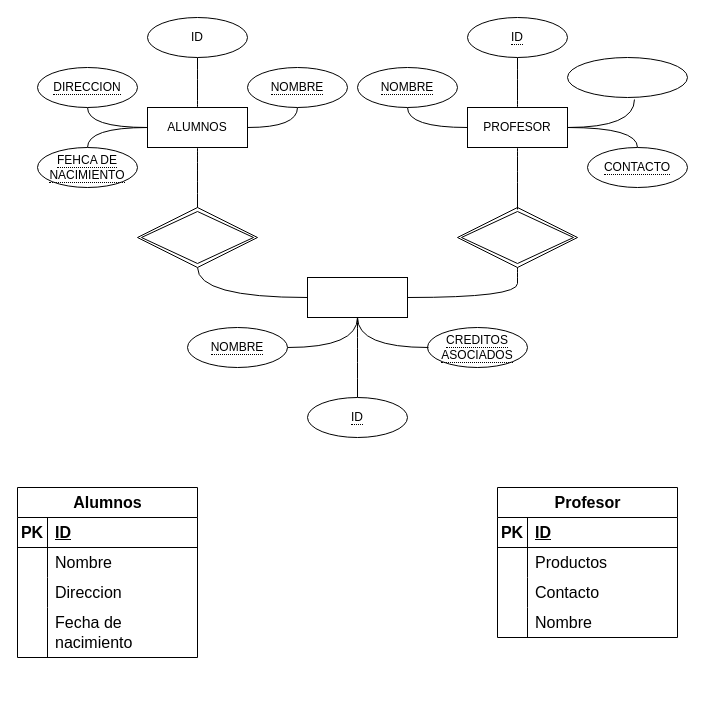
Image size: 705x725. Some labels were removed from this diagram. Each missing label, with the box of its shape:
CURSOS: (306, 276, 408, 318)
ESPECIALIZACION: (566, 56, 688, 98)
IMPORTE: (456, 206, 578, 268)
INCRITOS: (136, 206, 258, 268)
